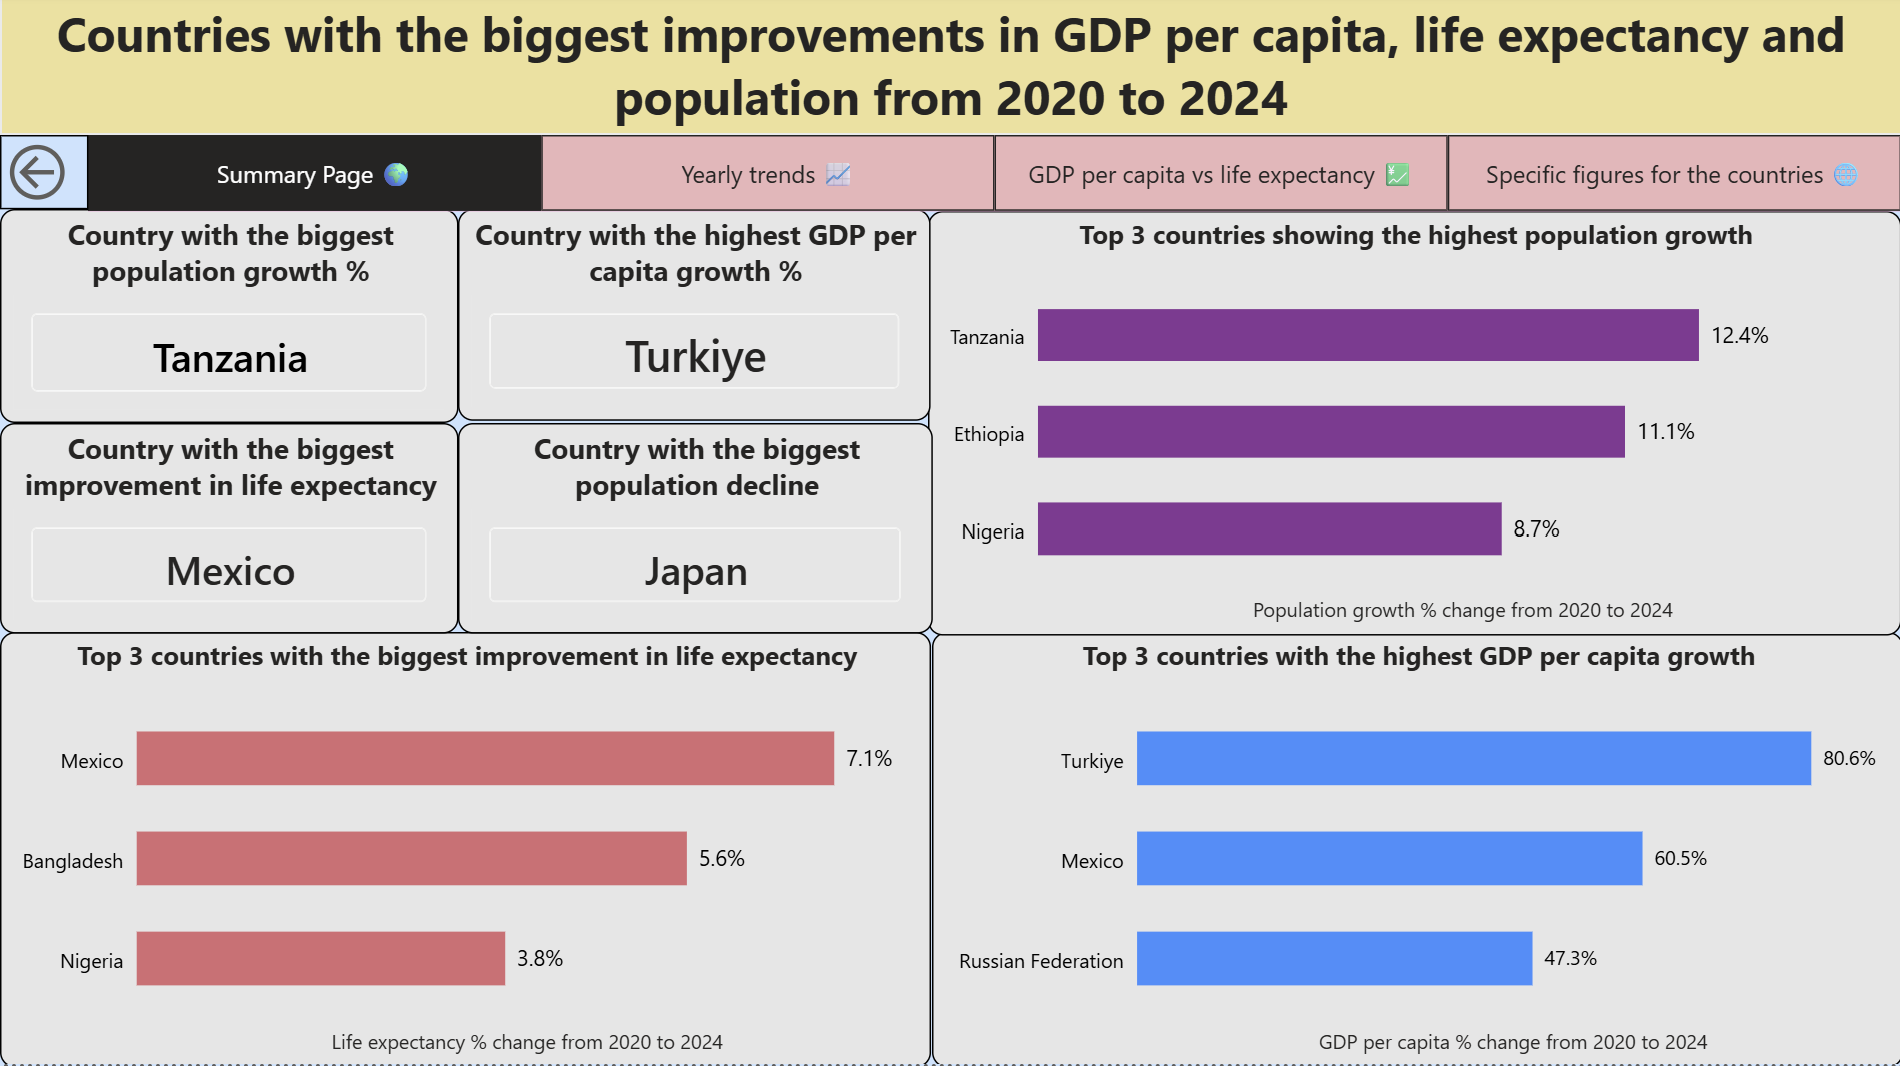

The dashboard page shown, as its layout file describes it:
{"tool":"powerbi","page":{"name":"Summary Page 🌍","canvas":[1280,720],"ordinal":1},"visuals":[{"type":"clusteredBarChart","title":"Top 3 countries with the highest GDP per capita growth","fields":{"Category":["MARTS_GDP_PER_CAPITA_FINAL.COUNTRY"],"Y":["Sum(MARTS_GDP_PER_CAPITA_FINAL.GDP per capita growth 2020 to 2024)"]},"box":[626.7,429.3,653.3,293],"z":0},{"type":"clusteredBarChart","title":"Top 3 countries with the biggest improvement in life expectancy","fields":{"Y":["Sum(MARTS_LIFE_EXPECTANCY_FINAL.Life expectancy 2020 to 2024)"],"Category":["MARTS_LIFE_EXPECTANCY_FINAL.COUNTRY"]},"box":[0,429.3,626.7,293],"z":1000},{"type":"clusteredBarChart","title":"Top 3 countries showing the highest population growth","fields":{"Category":["MARTS_POPULATIONS_FINAL.COUNTRY"],"Y":["Sum(MARTS_POPULATIONS_FINAL.Population growth 2020 to 2024)"]},"box":[625.1,147.3,654.9,285.1],"z":2000},{"type":"cardVisual","title":"Country with the biggest improvement in life expectancy ","fields":{"Data":["Key measures.Country with the biggest improvement in life expectancy"]},"box":[0,289.8,308.6,141],"z":3000},{"type":"cardVisual","title":"Country with the highest GDP per capita growth %","fields":{"Data":["Key measures.Country with the highest GDP % growth"]},"box":[308.6,145.7,318,142.6],"z":4000},{"type":"cardVisual","title":"Country with the biggest population decline","fields":{"Data":["Key measures.Country with the biggest population decline"]},"box":[308.6,289.8,319.6,141],"z":5000},{"type":"cardVisual","title":"Country with the biggest population growth %","fields":{"Data":["Key measures.Country with the biggest population growth"]},"box":[0,145.7,308.6,144.1],"z":6000},{"type":"textbox","box":[0,0,1280,95.6],"z":7000},{"type":"pageNavigator","box":[59.5,95.6,1220.5,51.7],"z":8000},{"type":"actionButton","box":[0,95.6,59.5,50.1],"z":9000}]}

Visuals, with their boxes in screenshot pixels (x1, y1, x2, y2), scaled from the page's 1280x720 canvas onto the 1900x1066 screenshot:
"Top 3 countries with the highest GDP per capita growth" clusteredBarChart: (930,636,1899,1065)
"Top 3 countries with the biggest improvement in life expectancy" clusteredBarChart: (0,636,930,1065)
"Top 3 countries showing the highest population growth" clusteredBarChart: (928,218,1899,640)
"Country with the biggest improvement in life expectancy " cardVisual: (0,429,458,638)
"Country with the highest GDP per capita growth %" cardVisual: (458,216,930,427)
"Country with the biggest population decline" cardVisual: (458,429,932,638)
"Country with the biggest population growth %" cardVisual: (0,216,458,429)
textbox: (0,0,1899,142)
pageNavigator: (88,142,1899,218)
actionButton: (0,142,88,216)
